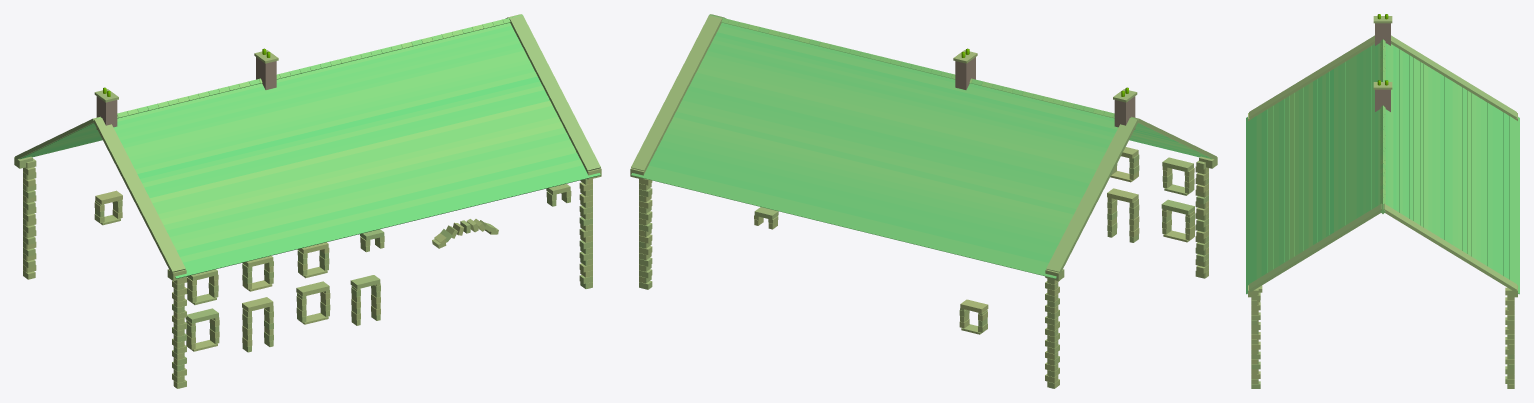
Rendered from SM_Bld_068_Stone.glb.
The picture shows the model from 3 angles, left to right: view 1: azimuth 30°, elevation 25°; view 2: azimuth 150°, elevation 25°; view 3: azimuth 270°, elevation 25°; orthographic projection. The views are drawn at different scales.
Visible parts, largest first — view 1: SM_Bld_068_Stone; view 2: SM_Bld_068_Stone; view 3: SM_Bld_068_Stone.
Part boxes in pixels (box(x1,y1,x2,y2)): SM_Bld_068_Stone: box(14, 14, 601, 388); SM_Bld_068_Stone: box(630, 14, 1217, 388); SM_Bld_068_Stone: box(1246, 14, 1519, 388).
Size of the model in its own units: 23.25 by 12.46 by 15.11.
